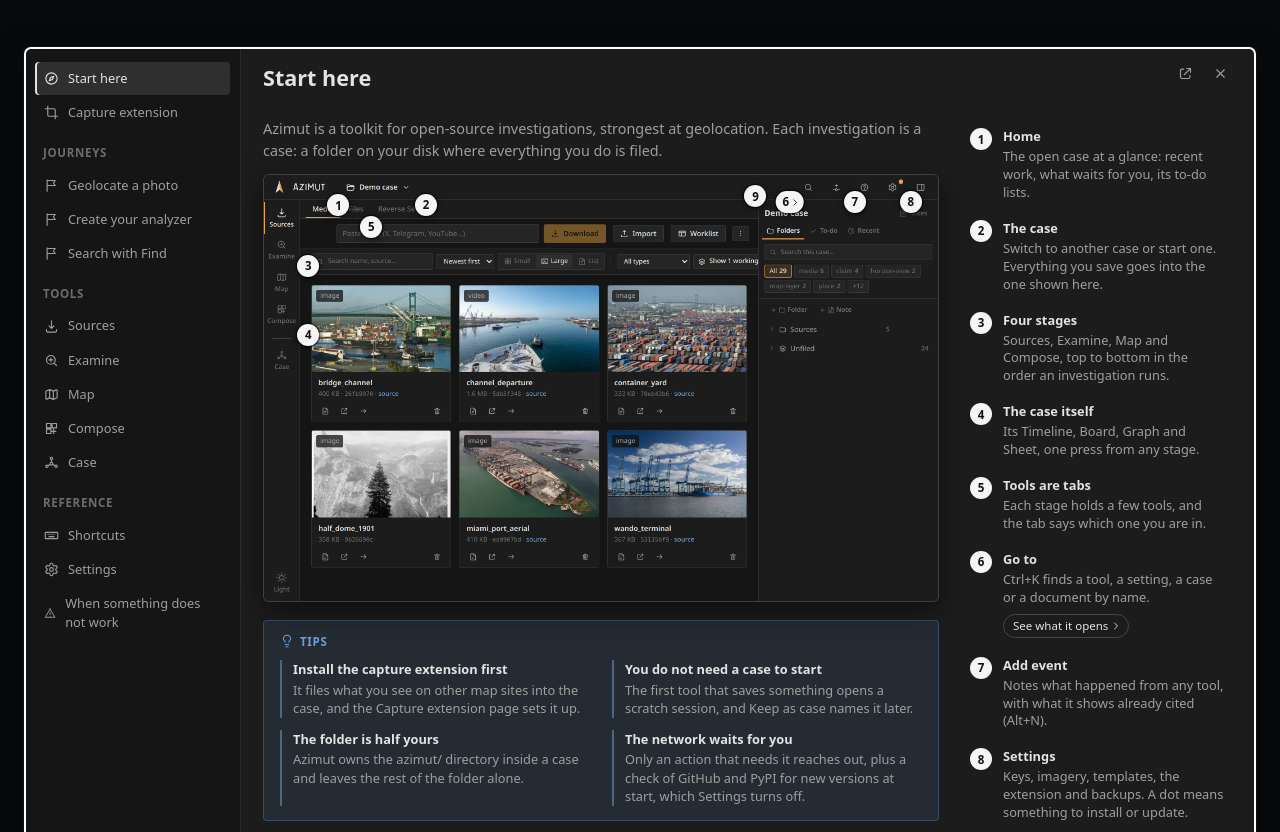
Test case: the reference › answers every symptom
What coordinates should you click on to do the following:
click the button with class "entry" showing "When something does not work"
I would click on:
 (132, 613)
Its box is [35, 587, 230, 639].
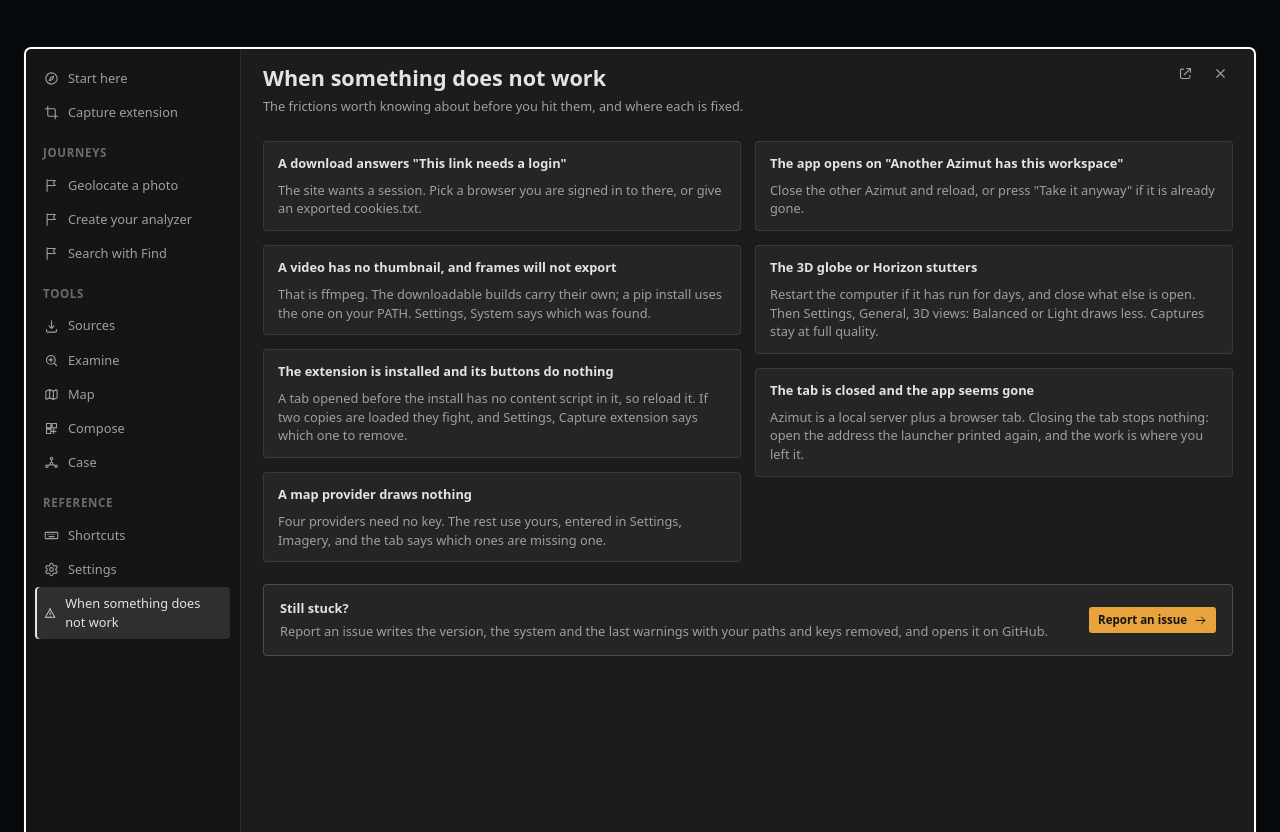
Check: the number of elements with class "card-block" is 7
